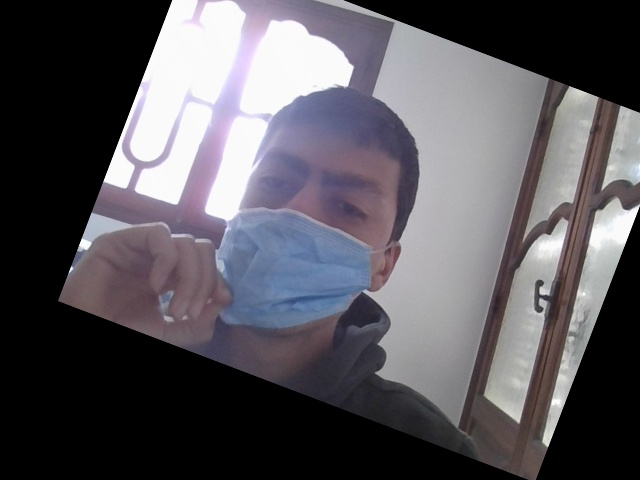mask_weared_incorrect: (217, 106, 404, 342)
